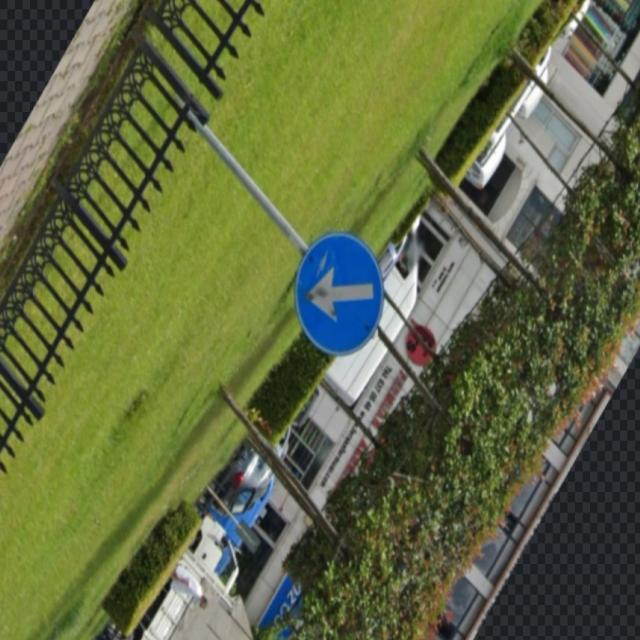Turn Left: (297, 237, 386, 356)
